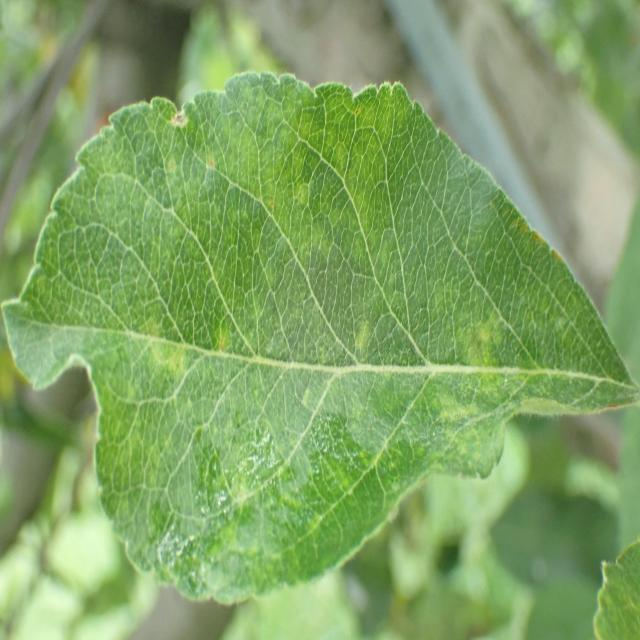scab: (37, 102, 608, 537)
